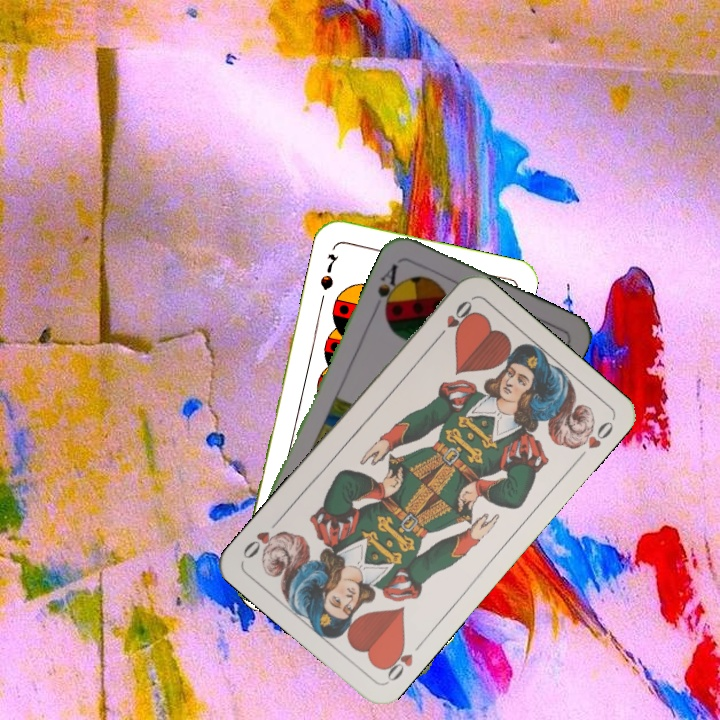HO: (431, 296, 475, 344), (377, 639, 416, 685)
S7: (316, 249, 340, 293)
SA: (373, 260, 405, 316)
